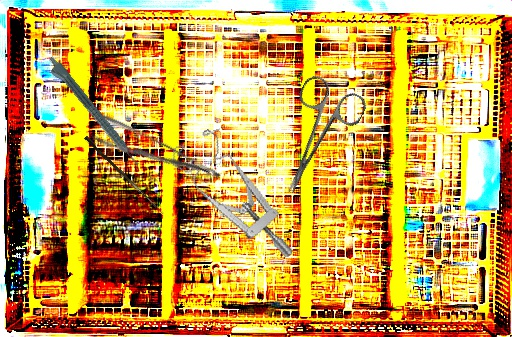Dressing Forceps: (89, 111, 223, 200)
Handpiece: (42, 54, 142, 172)
Hook Surgical: (82, 135, 168, 215)
Iris Scissors: (258, 71, 370, 207)
Speculum: (164, 115, 297, 283)
